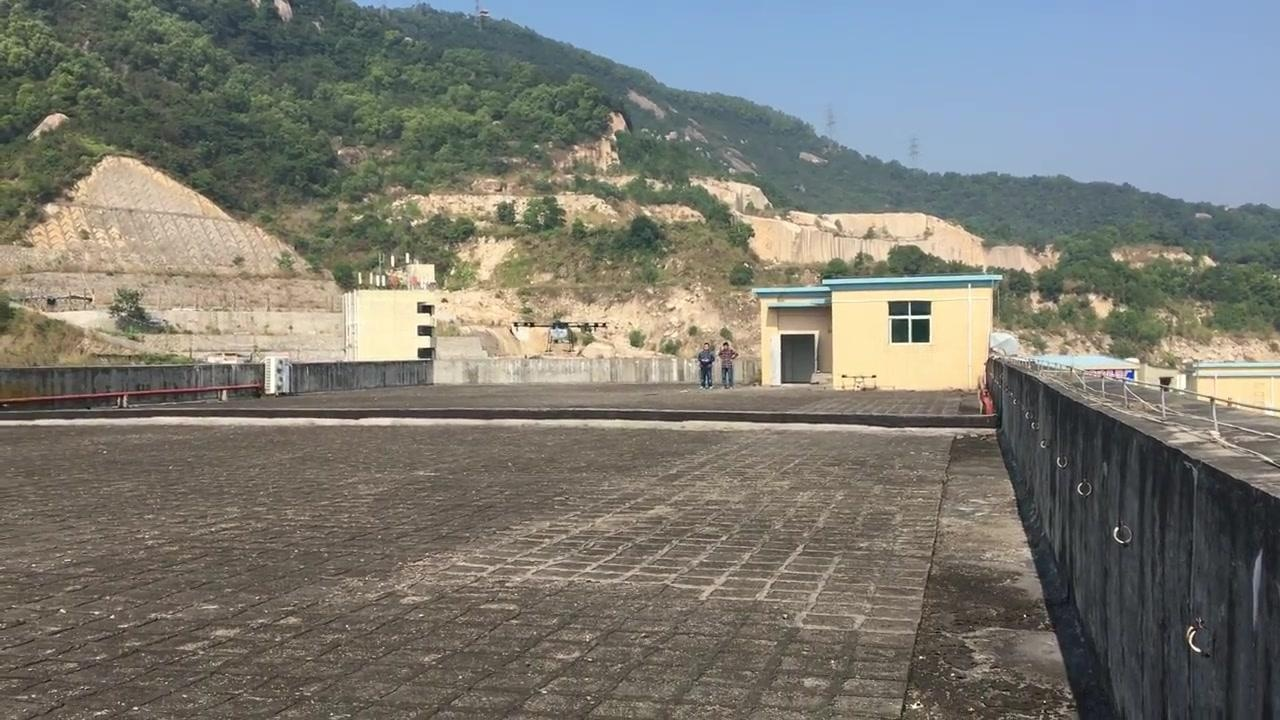UAV: (514, 321, 609, 353)
